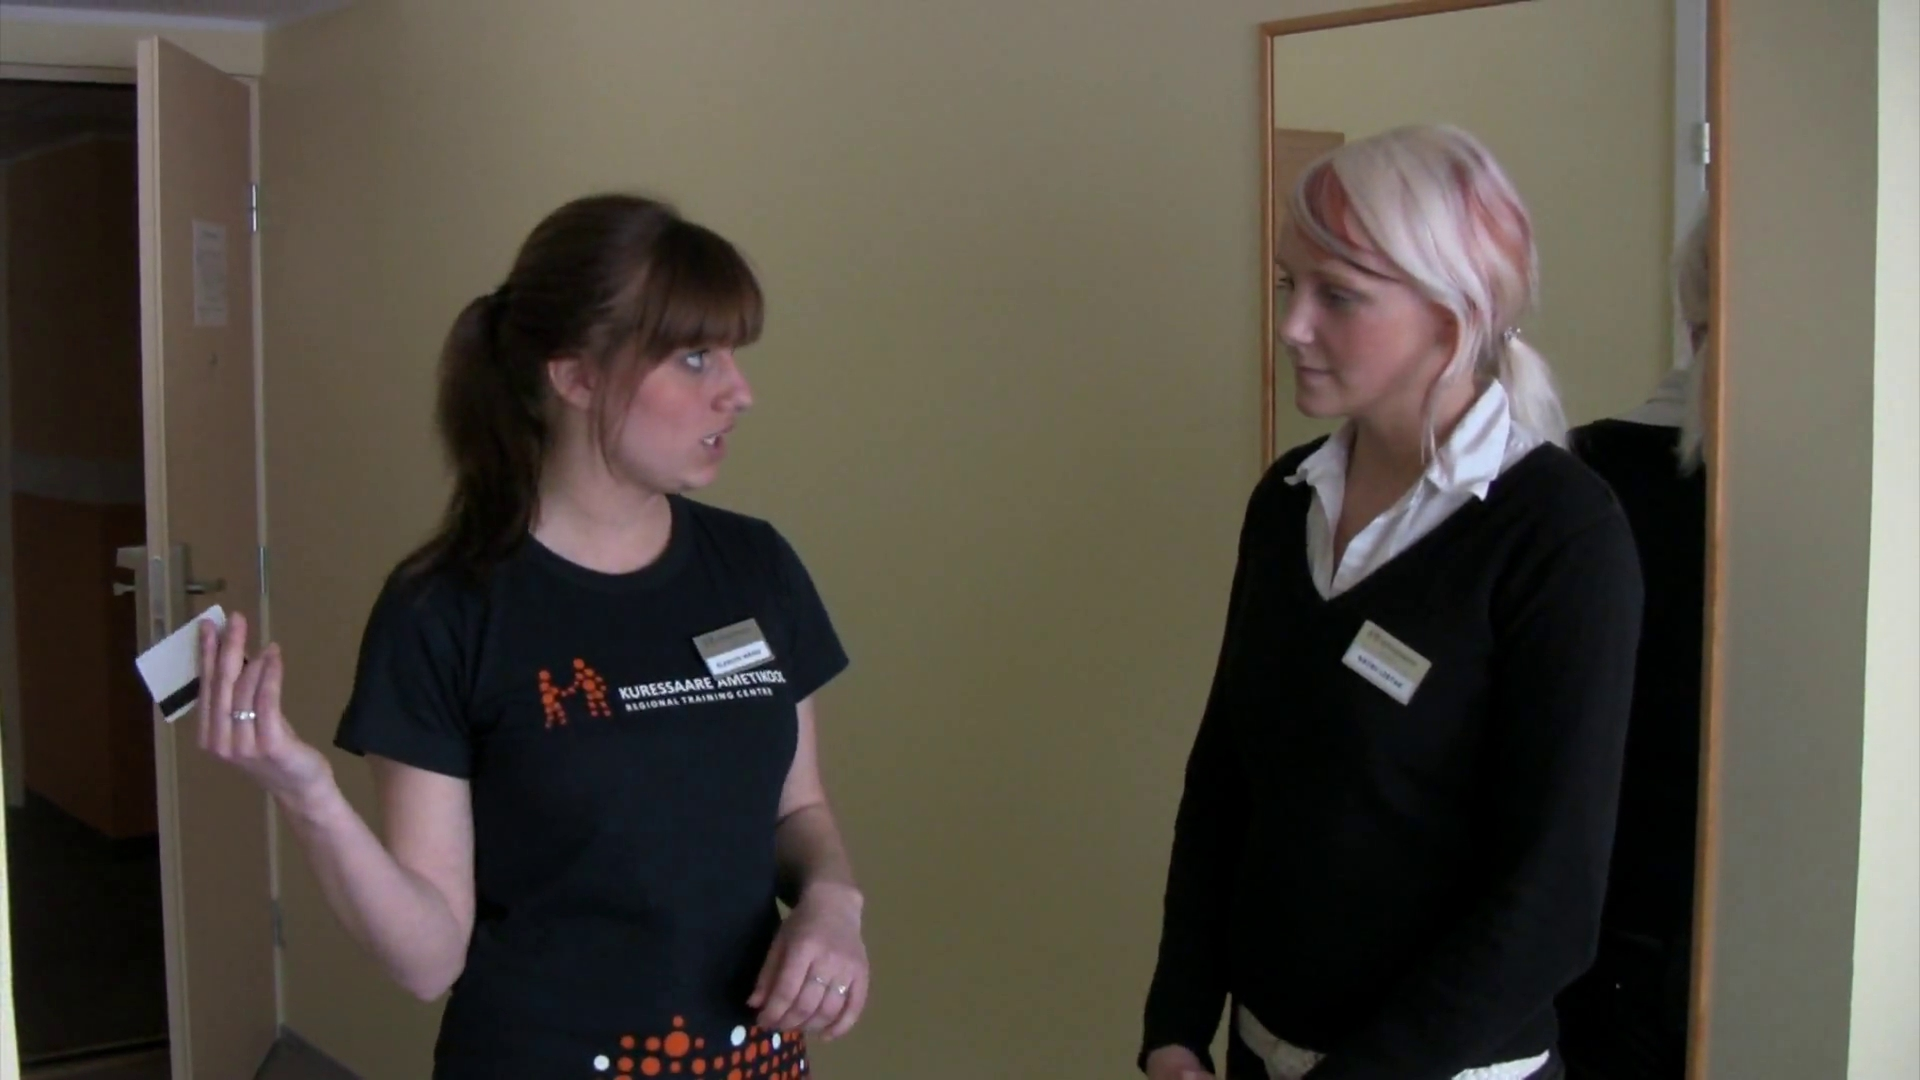person: (198, 194, 869, 1077), (1137, 120, 1643, 1080)
